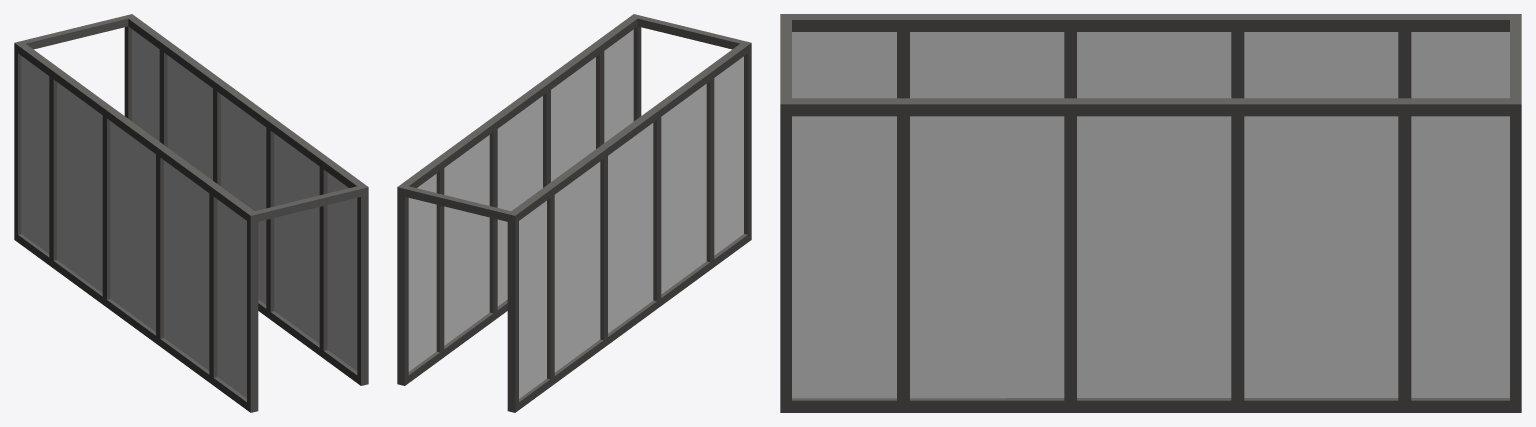
Rendered from AI_Prop_Cage_Hallway.fbx.
3 renders of one model, left to right at view 1: azimuth 30°, elevation 25°; view 2: azimuth 150°, elevation 25°; view 3: azimuth 270°, elevation 25°, orthographic. The views are drawn at different scales.
Parts seen in each view (by area): view 1: AI_Prop_Cage_Hallway; view 2: AI_Prop_Cage_Hallway; view 3: AI_Prop_Cage_Hallway.
Part boxes in pixels (bbox=[...]): AI_Prop_Cage_Hallway: bbox=[14, 14, 368, 412]; AI_Prop_Cage_Hallway: bbox=[397, 14, 751, 412]; AI_Prop_Cage_Hallway: bbox=[780, 14, 1521, 412].
Bounding box in the file's own units: 2.55 × 4.08 × 8.87.
